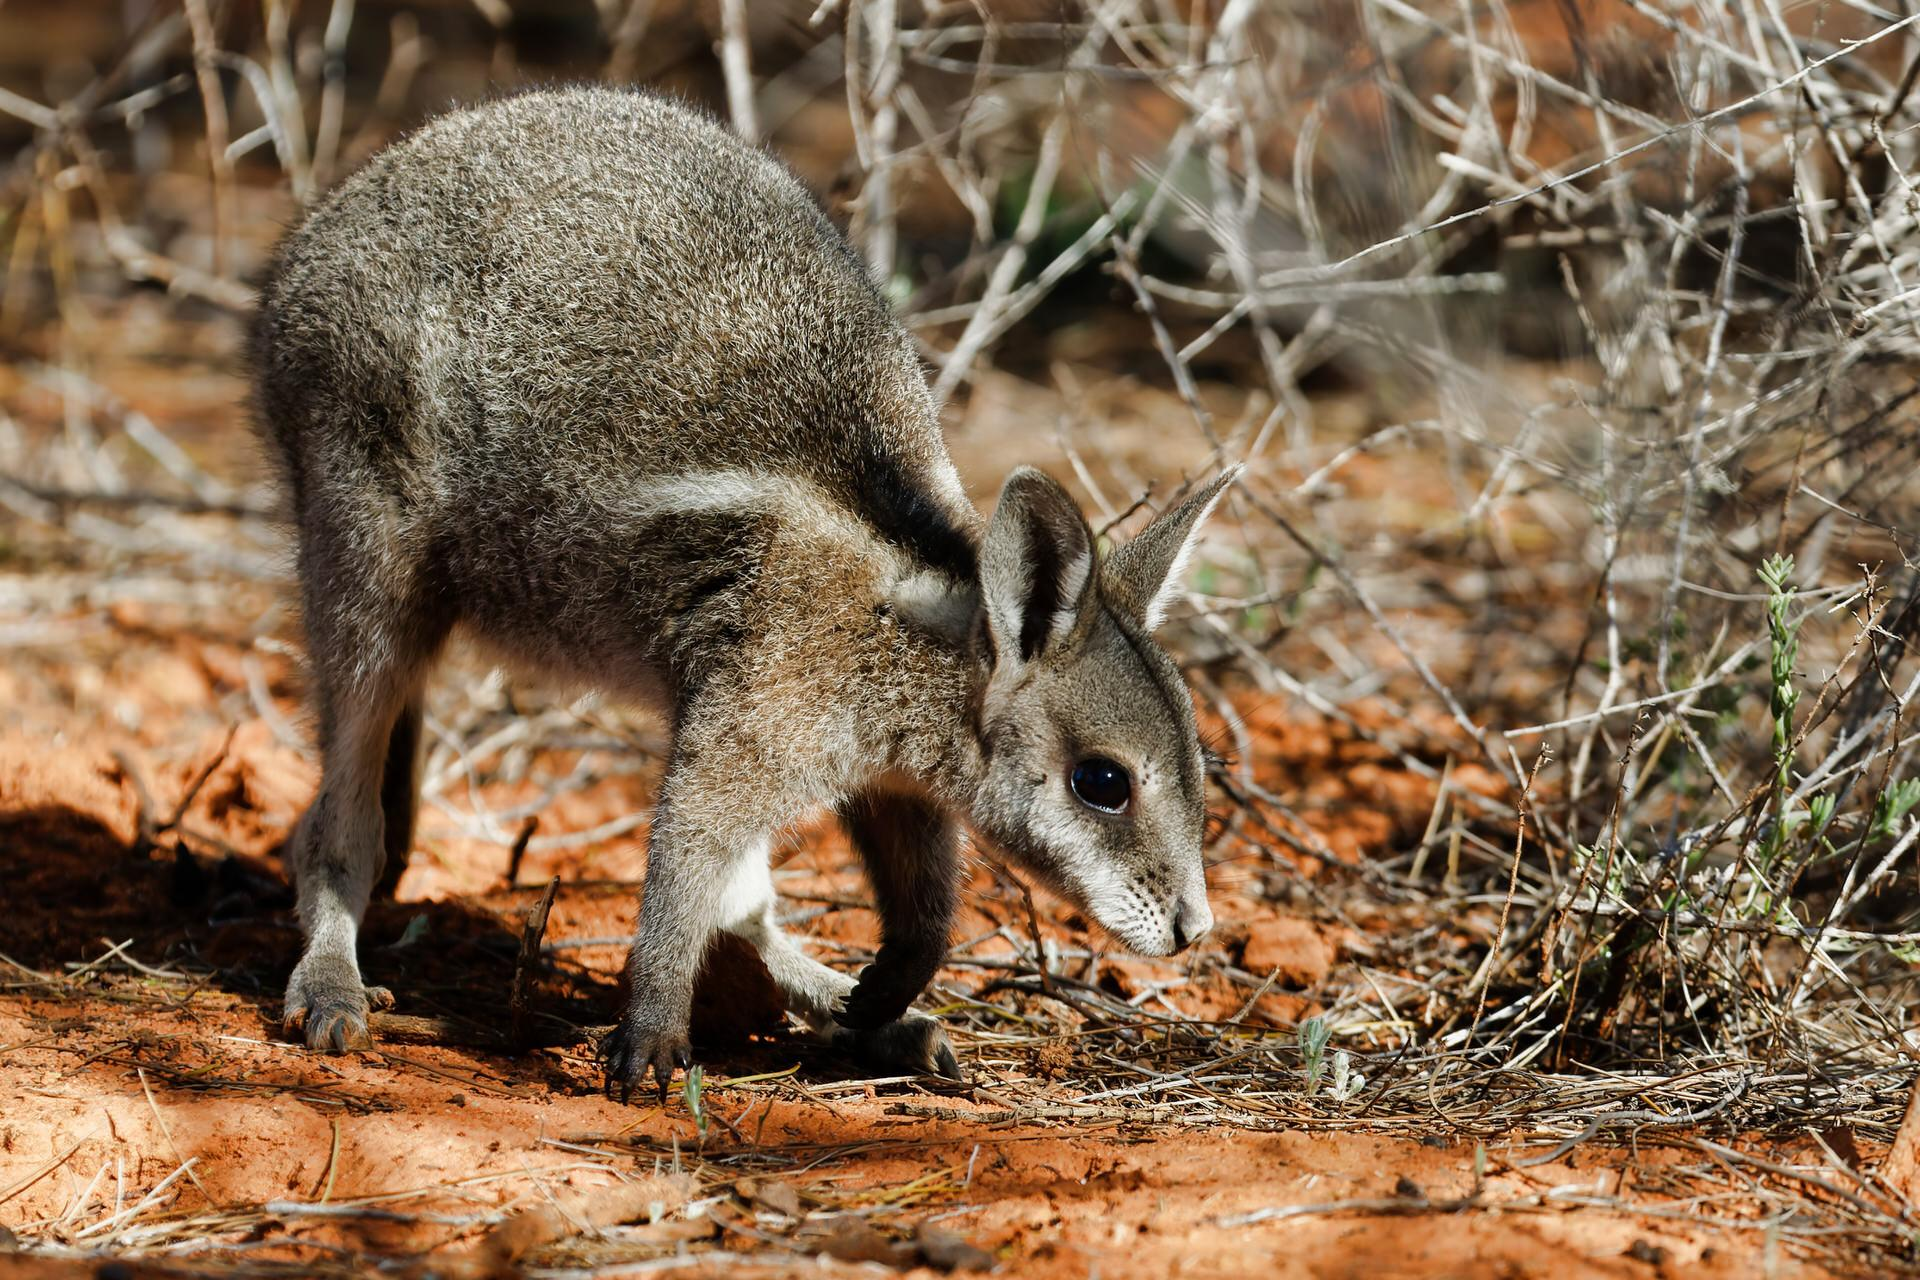Bridled-nail-tail wallaby: (237, 86, 1243, 1103)
